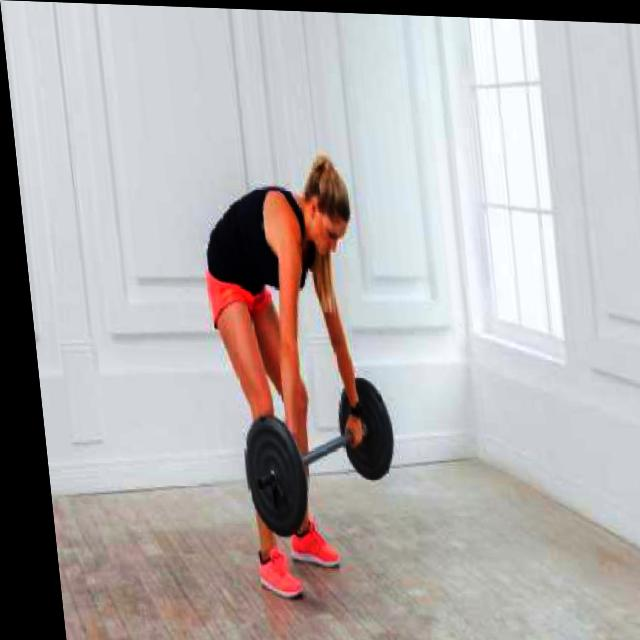barbell: (228, 413, 303, 537)
